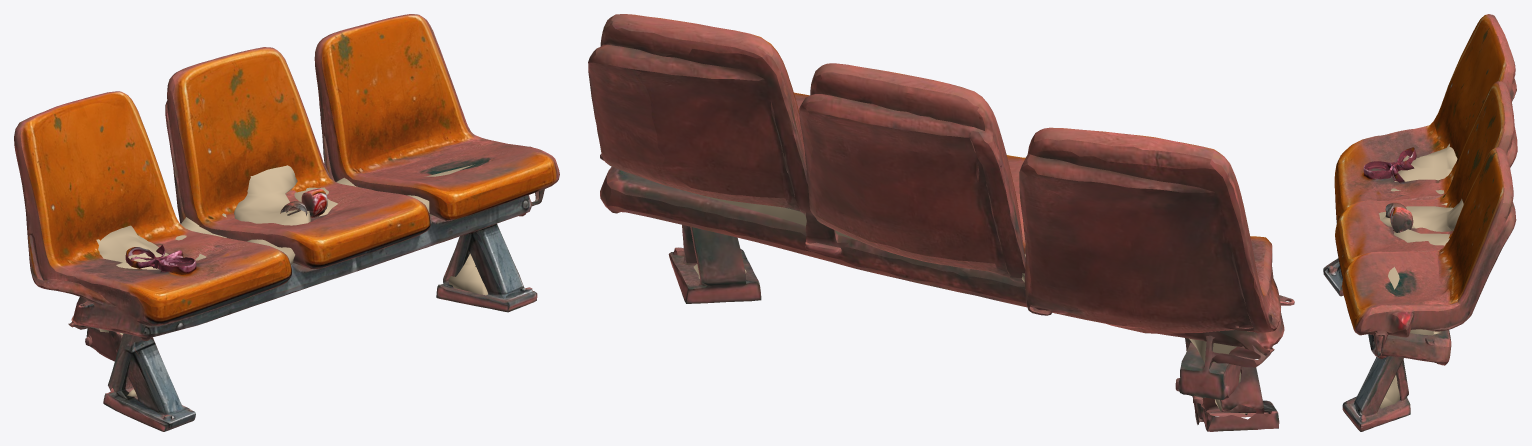
Rendered from bench_chunks.glb.
3 renders of one model, left to right at view 1: azimuth 30°, elevation 25°; view 2: azimuth 150°, elevation 25°; view 3: azimuth 270°, elevation 25°, orthographic. The views are drawn at different scales.
Visible parts, largest first — view 1: chunk2_shell, chunk0_shell, chunk5_shell, chunk1_shell, chunk4_shell, chunk3_shell, chunk0_core, chunk5_core, chunk1_core; view 2: chunk5_shell, chunk1_shell, chunk0_shell, chunk3_shell, chunk4_shell, chunk1_core; view 3: chunk2_shell, chunk1_shell, chunk5_shell, chunk0_shell, chunk3_shell, chunk4_shell, chunk5_core, chunk0_core, chunk1_core, chunk2_core.
Boxes of the visible parts, x1=… form: chunk2_shell: x1=290, y1=14, x2=559, y2=312; chunk0_shell: x1=210, y1=14, x2=418, y2=306; chunk5_shell: x1=14, y1=91, x2=184, y2=407; chunk1_shell: x1=169, y1=59, x2=484, y2=430; chunk4_shell: x1=75, y1=251, x2=218, y2=431; chunk3_shell: x1=157, y1=60, x2=250, y2=322; chunk0_core: x1=234, y1=165, x2=310, y2=264; chunk5_core: x1=96, y1=225, x2=168, y2=396; chunk1_core: x1=294, y1=177, x2=487, y2=295; chunk5_shell: x1=1019, y1=127, x2=1283, y2=431; chunk1_shell: x1=588, y1=23, x2=1255, y2=424; chunk0_shell: x1=614, y1=14, x2=1025, y2=296; chunk3_shell: x1=900, y1=78, x2=1103, y2=323; chunk4_shell: x1=1199, y1=236, x2=1294, y2=414; chunk1_core: x1=691, y1=192, x2=856, y2=278; chunk2_shell: x1=1335, y1=193, x2=1511, y2=431; chunk1_shell: x1=1326, y1=195, x2=1516, y2=428; chunk5_shell: x1=1390, y1=14, x2=1516, y2=185; chunk0_shell: x1=1336, y1=93, x2=1517, y2=234; chunk3_shell: x1=1335, y1=81, x2=1511, y2=209; chunk4_shell: x1=1323, y1=130, x2=1403, y2=277; chunk5_core: x1=1394, y1=143, x2=1457, y2=181; chunk0_core: x1=1379, y1=198, x2=1463, y2=231; chunk1_core: x1=1379, y1=229, x2=1449, y2=408; chunk2_core: x1=1381, y1=267, x2=1433, y2=336.
Bounding box in the file's own units: 1.59 × 0.85 × 0.6.
Materials: 1 (1 with a texture image).
